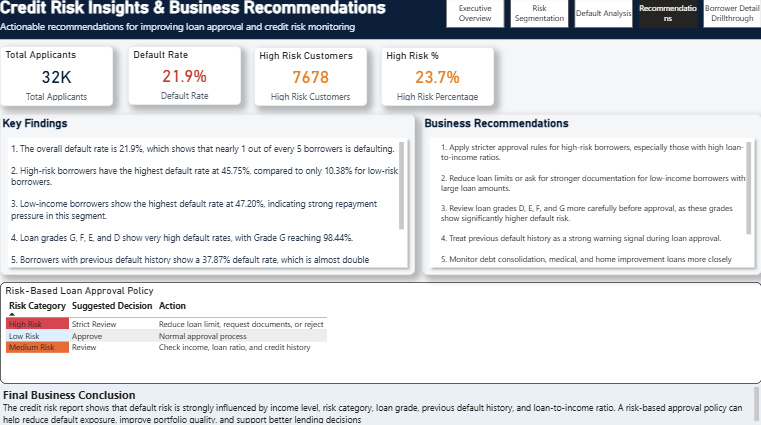

Layout of this report page (visuals, bound fields, positions):
{"tool":"powerbi","page":{"name":"Recommendations","canvas":[1280,720],"ordinal":3},"visuals":[{"type":"shape","title":"Credit Risk Insights & Business Recommendations","box":[0,0,1280,70.6],"z":0},{"type":"card","title":"Total Applicants","fields":{"Values":["Credit Risk.Total Applicants"]},"box":[0,82.3,189.8,100.8],"z":1000},{"type":"card","title":"Default Rate","fields":{"Values":["Credit Risk.Default Rate"]},"box":[215,82.3,189.8,99.1],"z":2000},{"type":"card","title":"High Risk Customers","fields":{"Values":["Credit Risk.High Risk Customers"]},"box":[426.7,84,189.8,99.1],"z":3000},{"type":"card","title":"High Risk %","fields":{"Values":["Credit Risk.High Risk Percentage"]},"box":[640,84,189.8,99.1],"z":4000},{"type":"shape","title":"Key Findings","box":[0,196.5,697.1,270.4],"z":5000},{"type":"textbox","box":[13.4,238.5,670.2,215],"z":6000},{"type":"tableEx","title":"Risk-Based Loan Approval Policy","fields":{"Values":["Risk Decision Policy.Risk Category","Risk Decision Policy.Suggested Decision ","Risk Decision Policy.Action"]},"box":[0,478.7,1280,171.3],"z":7000},{"type":"textbox","box":[0,650.1,1280,70.6],"z":9000},{"type":"pageNavigator","box":[749.2,0,530.8,52.1],"z":10000},{"type":"shape","title":"Business Recommendations","box":[708.9,196.5,571.1,270.4],"z":10001},{"type":"textbox","box":[735.7,238.5,530.8,215],"z":10002}]}

Visuals, with their boxes in screenshot pixels (x1, y1, x2, y2), scaled from the page's 1280x720 canvas onto the 761x425 screenshot:
"Credit Risk Insights & Business Recommendations" shape: region(0, 0, 760, 42)
"Total Applicants" card: region(0, 49, 113, 108)
"Default Rate" card: region(128, 49, 241, 107)
"High Risk Customers" card: region(254, 50, 367, 108)
"High Risk %" card: region(380, 50, 493, 108)
"Key Findings" shape: region(0, 116, 414, 276)
textbox: region(8, 141, 406, 268)
"Risk-Based Loan Approval Policy" tableEx: region(0, 283, 760, 384)
textbox: region(0, 384, 760, 424)
pageNavigator: region(445, 0, 760, 31)
"Business Recommendations" shape: region(421, 116, 760, 276)
textbox: region(437, 141, 753, 268)
